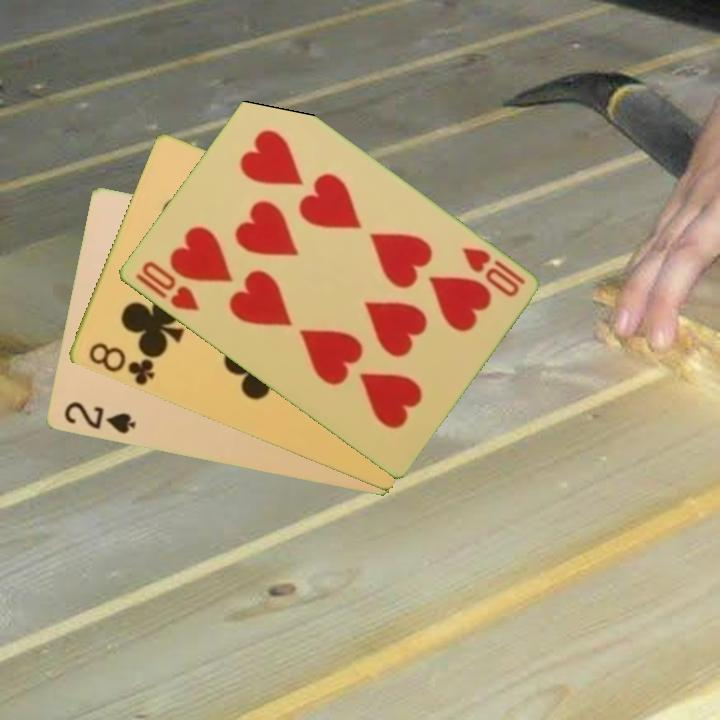10h: (457, 243, 528, 301), (137, 257, 202, 315)
2s: (60, 398, 138, 437)
8c: (84, 339, 159, 388)
